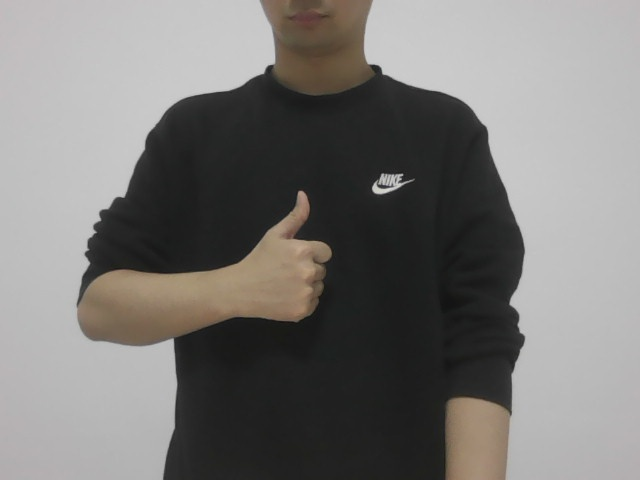good: (231, 182, 337, 330)
